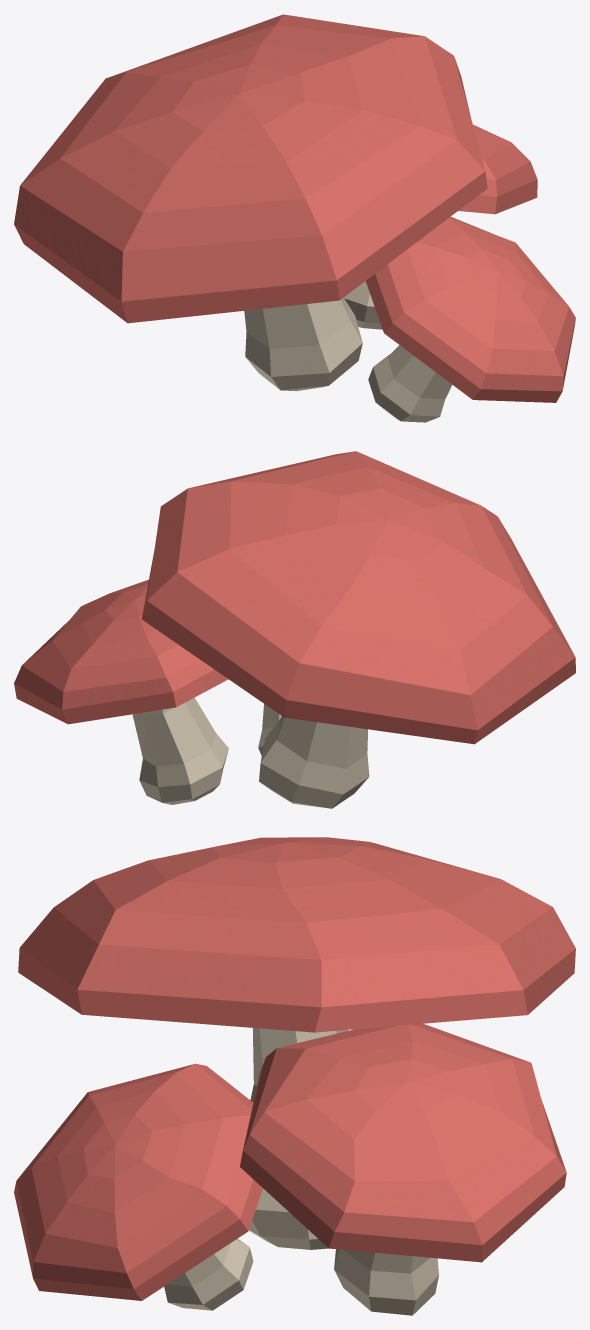
Rendered from MushRoom_01.fbx.
The picture shows the model from 3 angles, top to bottom: view 1: azimuth 30°, elevation 25°; view 2: azimuth 150°, elevation 25°; view 3: azimuth 270°, elevation 25°; orthographic projection. The views are drawn at different scales.
Parts seen in each view (by area): view 1: MushRoom_01; view 2: MushRoom_01; view 3: MushRoom_01.
Boxes of the visible parts, <box> form: MushRoom_01: <box>14,14,575,422</box>; MushRoom_01: <box>14,451,575,808</box>; MushRoom_01: <box>14,837,575,1315</box>.
Bounding box in the file's own units: 51.74 × 35.38 × 45.17.
1 material, 1 textured.
